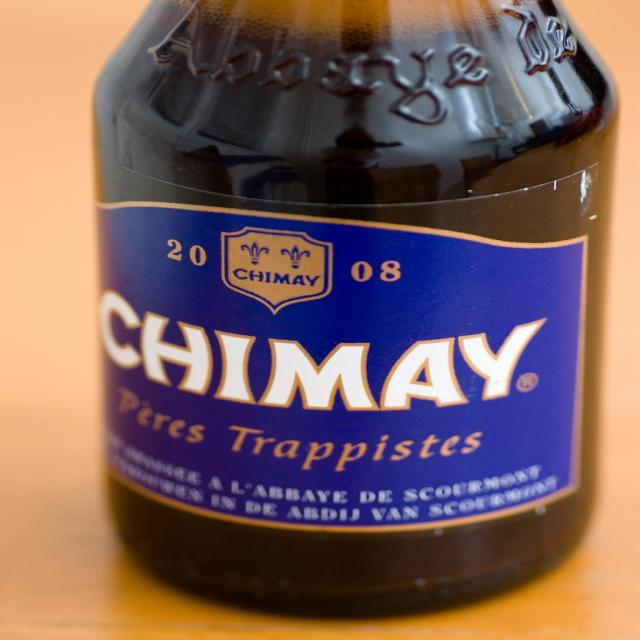chimay: (92, 203, 589, 533)
